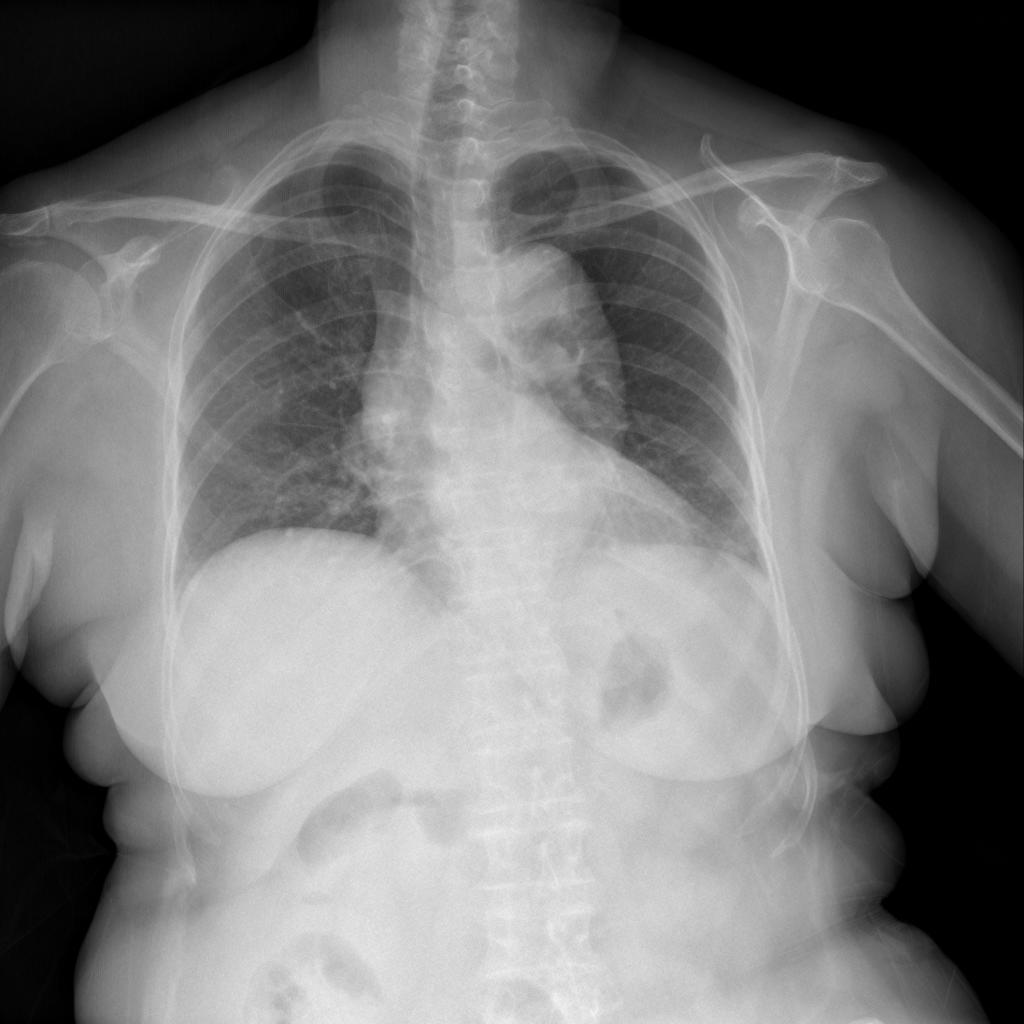Nodule: (333, 400, 424, 495)
